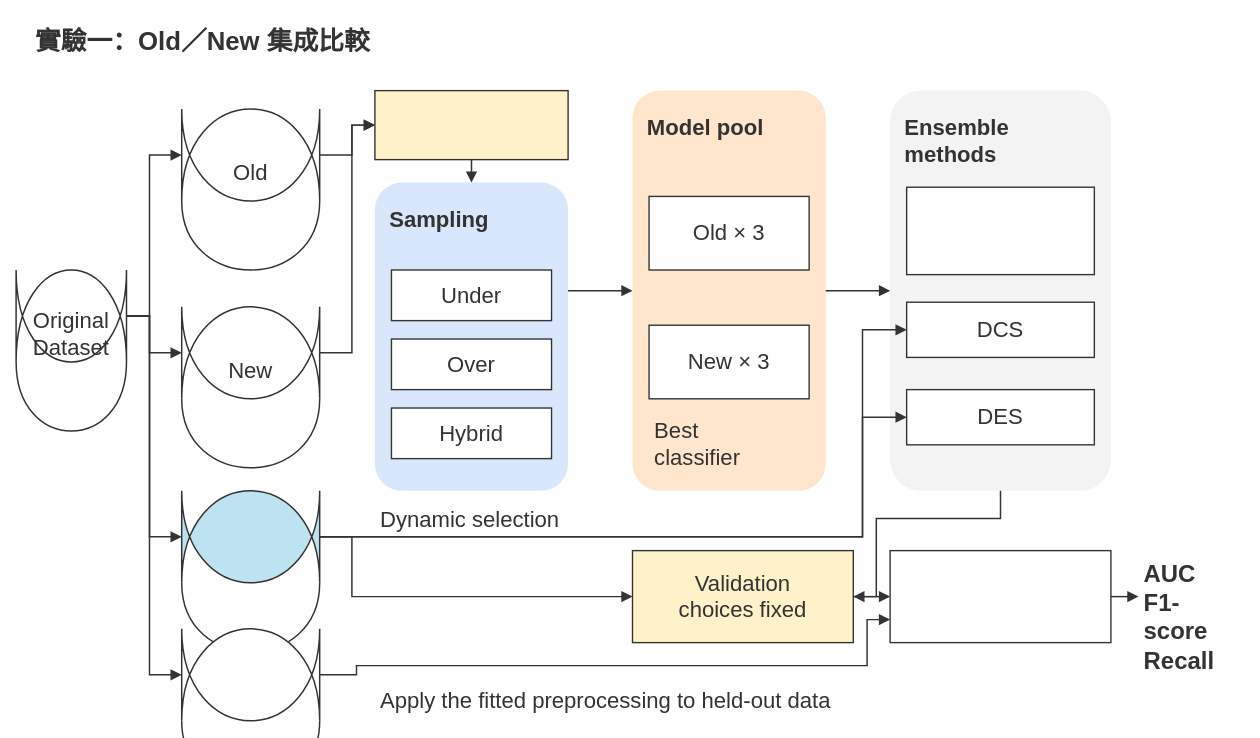
Some shapes in this 1260 by 738 pixel diagram are drawn without their labels. Here are the shapes that lost their labels. From the top down, the centre of each, then its label:
At [471,125]: "Preprocess".
At [1000,230]: "Static 49 mixed subsets".
At [250,536]: "Validation".
At [1000,596]: "Test inference".
At [250,674]: "Test".
